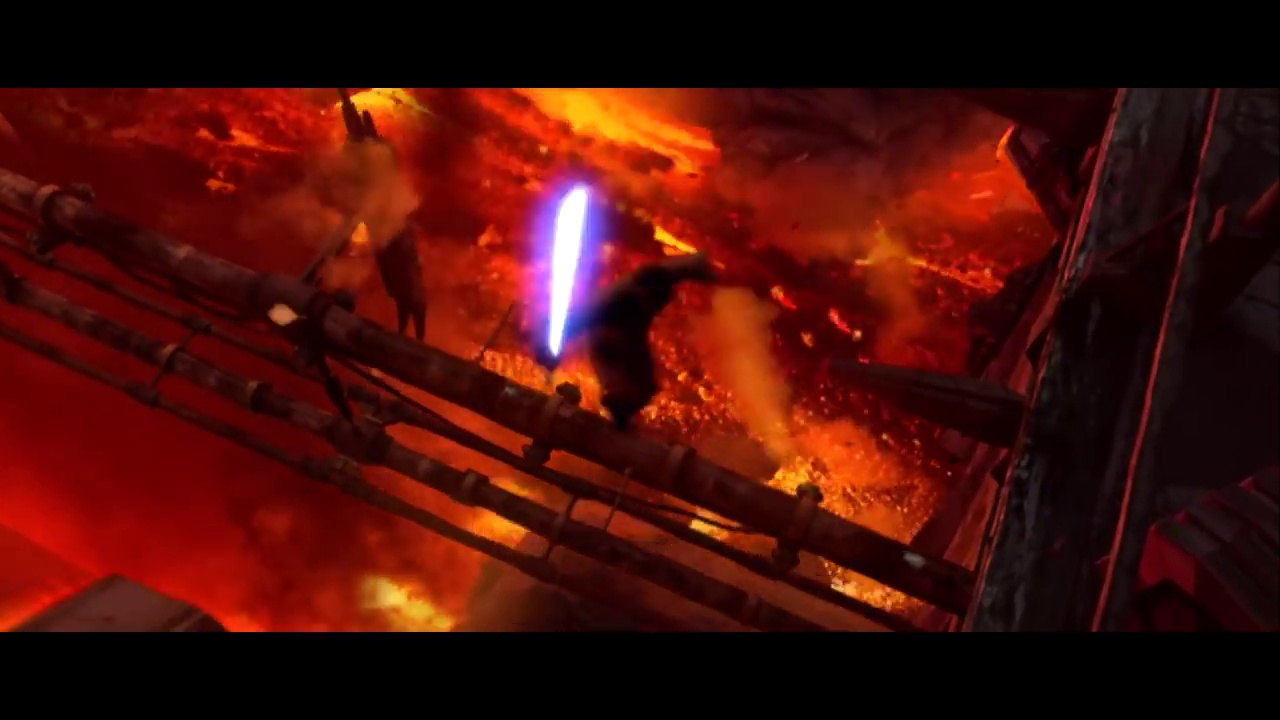lightsaber: (529, 179, 602, 368)
